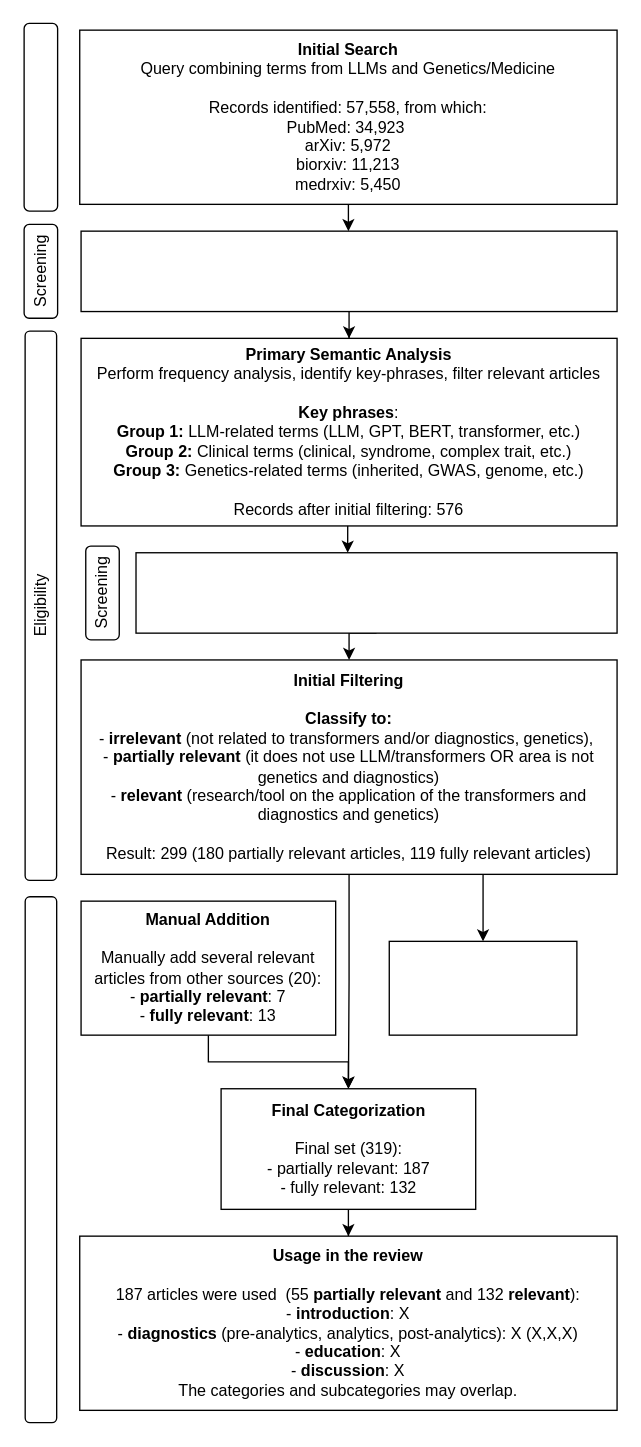
Some shapes in this 641 by 1447 pixel diagram are drawn without their labels. Here are the shapes that lost their labels. From the top down, the centre of each, then its label:
point (40, 116): Identification
point (348, 271): Automated duplicates merging Records after duplicates removed: 51,613
point (376, 592): Manual duplicates merging Records after duplicates removed: 550
point (482, 987): Excluded Irrelevant articles: 251
point (40, 1159): Included
